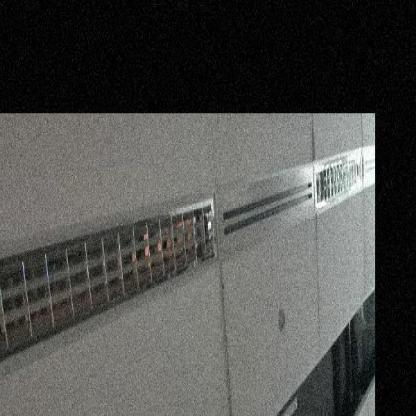light_off: (0, 187, 222, 380)
